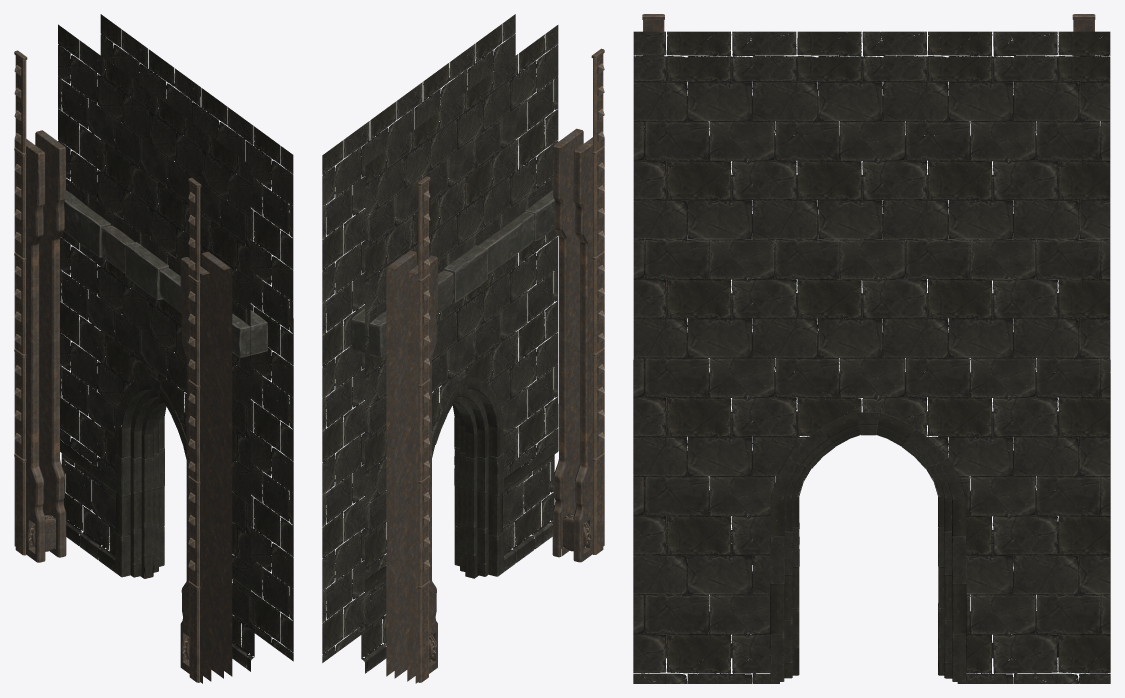
3 renders of one model, left to right at view 1: azimuth 30°, elevation 25°; view 2: azimuth 150°, elevation 25°; view 3: azimuth 270°, elevation 25°, orthographic. The views are drawn at different scales.
Visible parts, largest first — view 1: SM_DR_Gateway_Middle_Lower_01_LOD0; view 2: SM_DR_Gateway_Middle_Lower_01_LOD0; view 3: SM_DR_Gateway_Middle_Lower_01_LOD0.
Boxes of the visible parts, left/top/right/bottom form: SM_DR_Gateway_Middle_Lower_01_LOD0: left=14, top=14, right=293, bottom=683; SM_DR_Gateway_Middle_Lower_01_LOD0: left=322, top=14, right=604, bottom=683; SM_DR_Gateway_Middle_Lower_01_LOD0: left=633, top=14, right=1110, bottom=683.
Size of the model in its own units: 2.67 by 13.35 by 9.19.
Materials: 5 (5 with a texture image).
